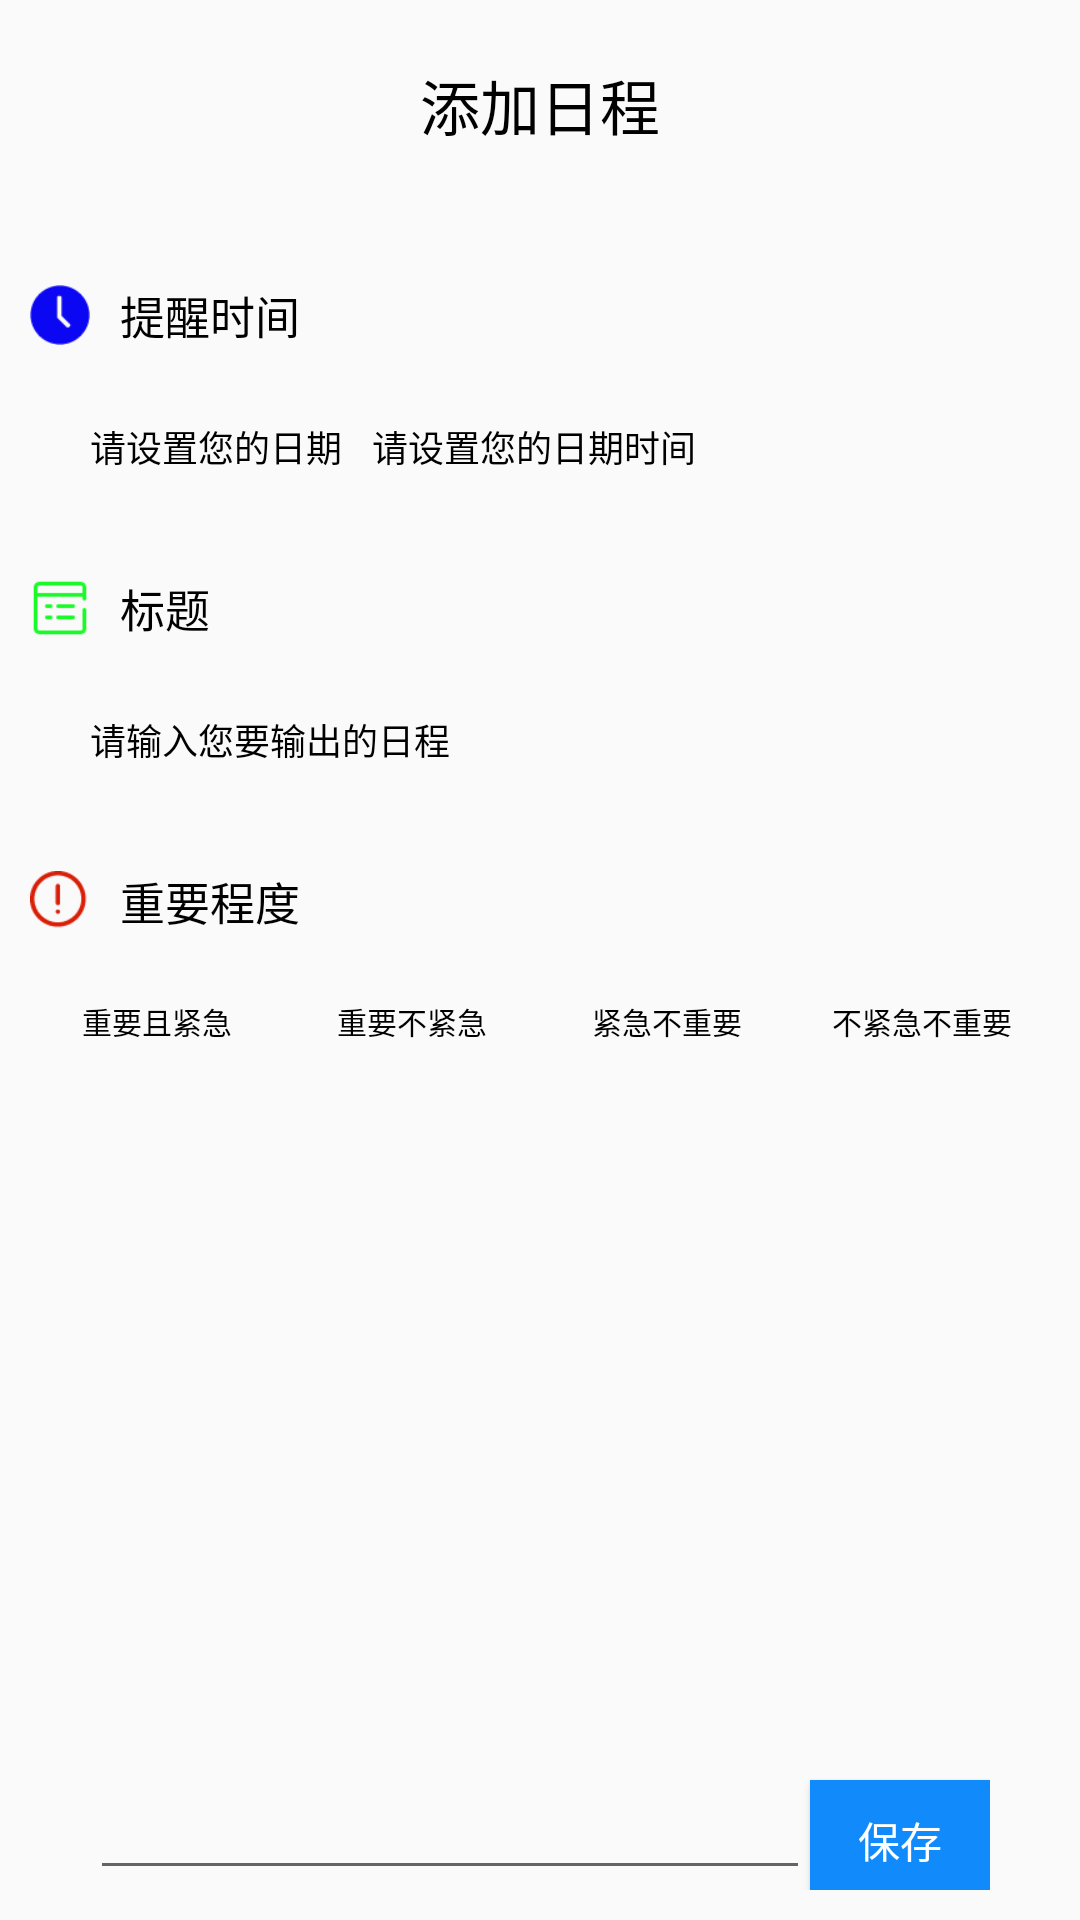

Point at icon controls on the screen. Image size 1080 × 1920, points as point (x, y).
alert: point (58, 899)
time: point (60, 315)
